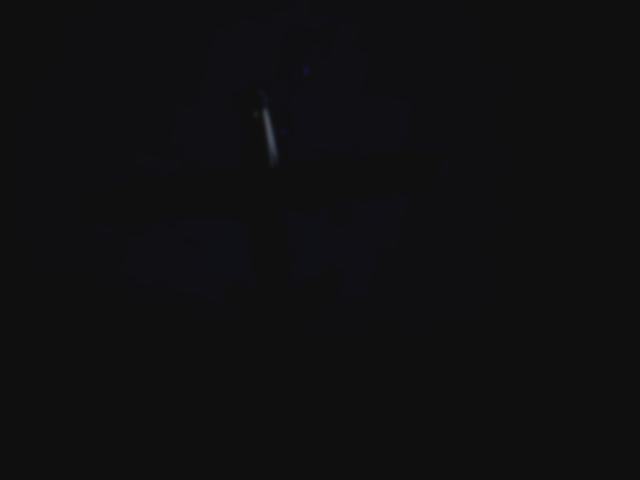iha: (56, 49, 467, 377)
